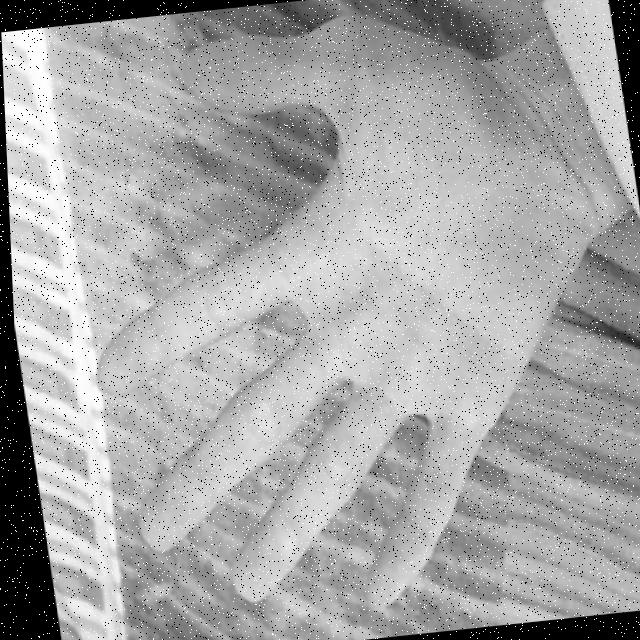hand: (43, 0, 640, 636)
